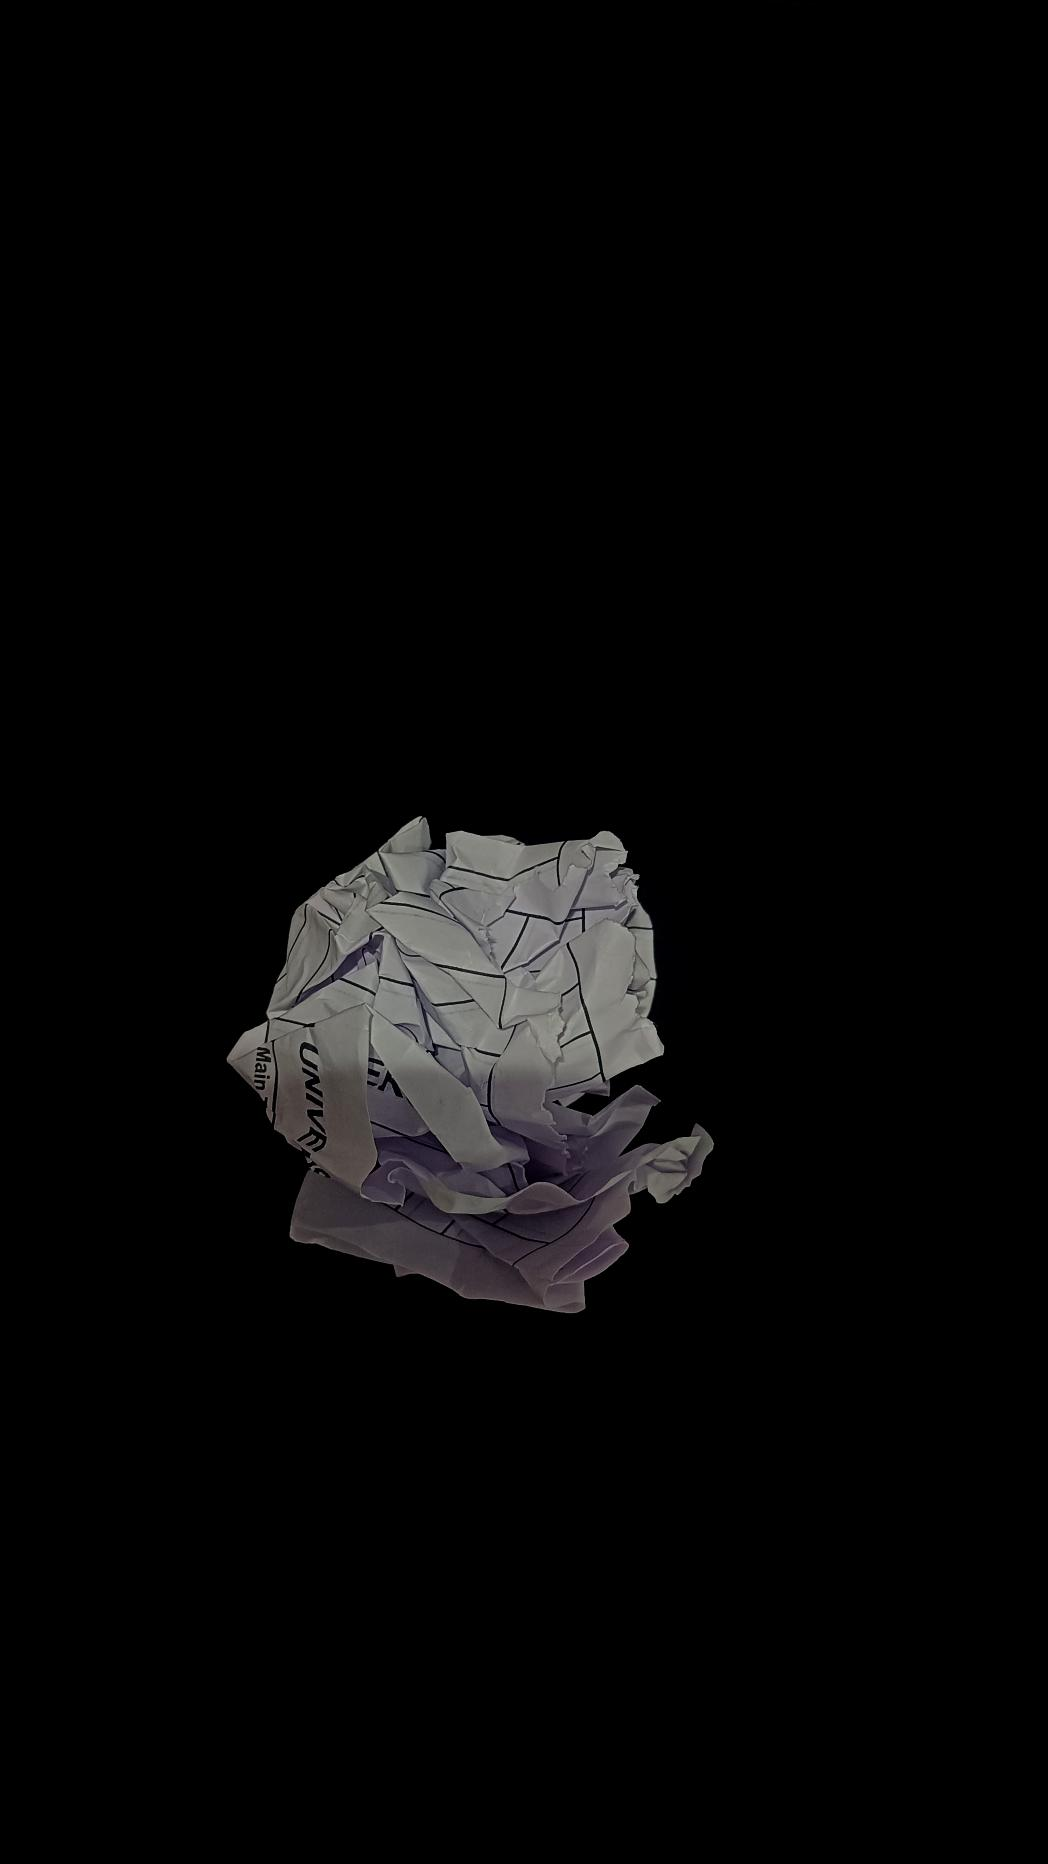PaperBall: (36, 810, 815, 1864), (229, 813, 711, 1302)
